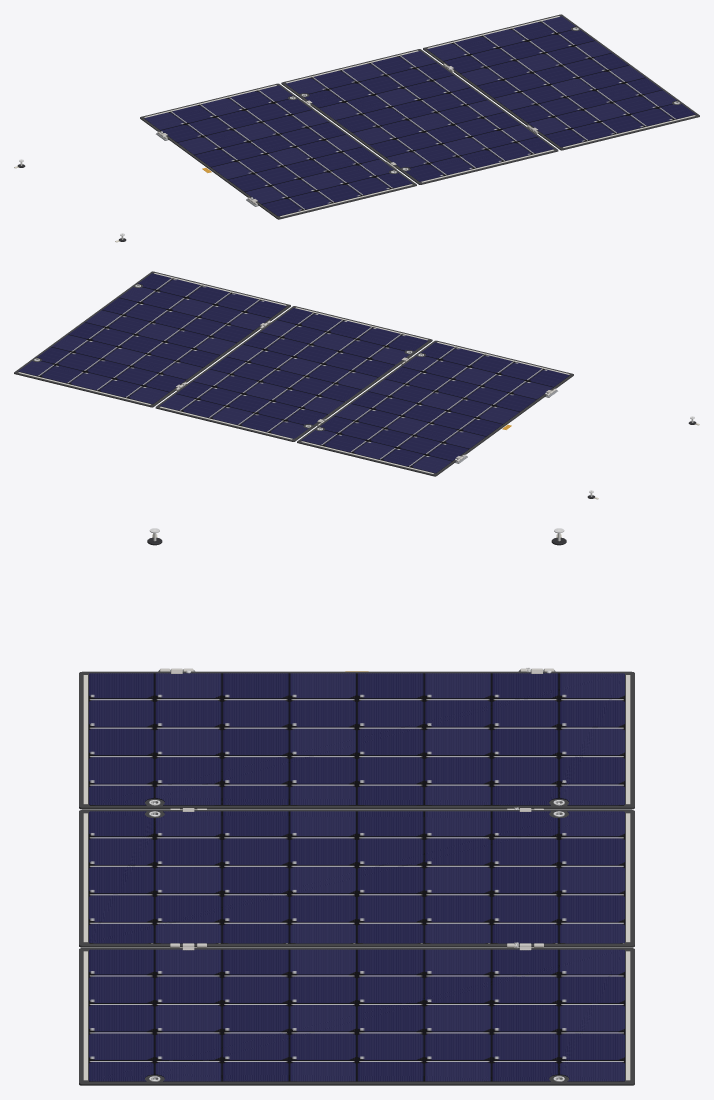
File: solar_wing.glb
The picture shows the model from 3 angles, top to bottom: view 1: azimuth 30°, elevation 25°; view 2: azimuth 150°, elevation 25°; view 3: azimuth 270°, elevation 25°; orthographic projection. The views are drawn at different scales.
Visible parts, largest first — view 1: hinge_2, hinge_1, hinge_3; view 2: hinge_2, hinge_1, hinge_3; view 3: hinge_1, hinge_3, hinge_2.
Boxes of the visible parts, x1,y1,x2,y2 form: hinge_2: (281, 49, 558, 184); hinge_1: (140, 83, 416, 219); hinge_3: (423, 14, 699, 150); hinge_2: (155, 306, 432, 441); hinge_1: (297, 340, 573, 476); hinge_3: (14, 271, 290, 407); hinge_1: (79, 668, 634, 809); hinge_3: (79, 942, 634, 1085); hinge_2: (79, 807, 634, 947).
Bounding box in the file's own units: 0.776 × 0.00879 × 0.33.
Materials: 11 (1 with a texture image).
